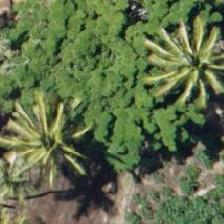coconut_tree: (9, 94, 99, 184), (146, 21, 223, 111)
